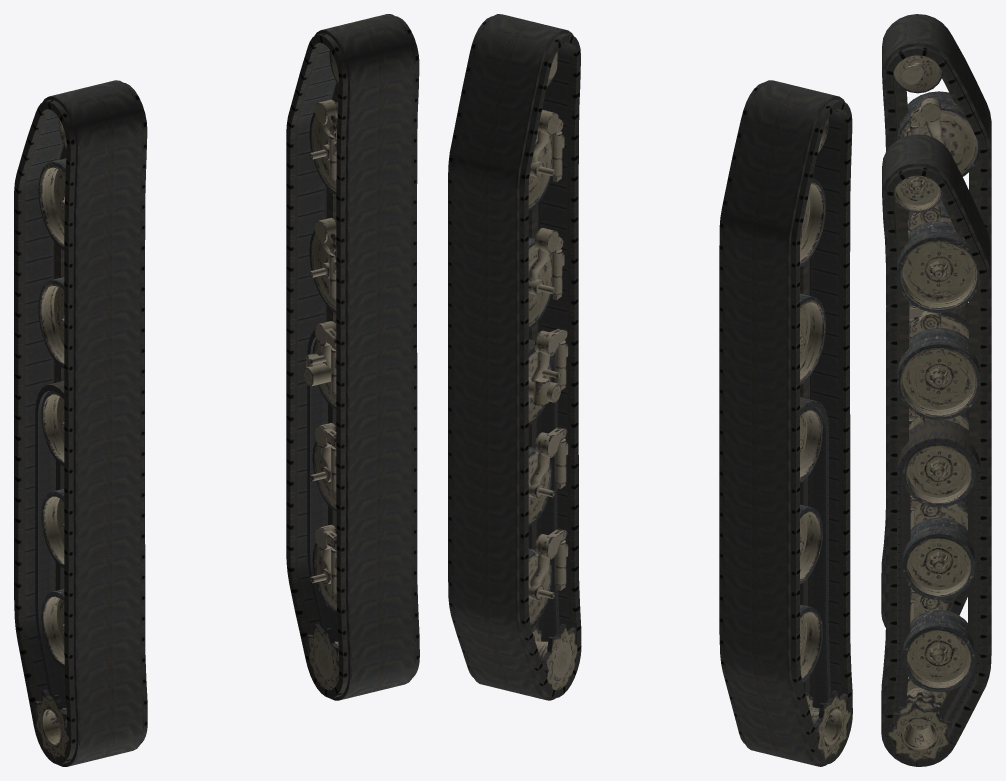
Rendered from Chassis.glb.
3 views of the same model, side by side, from view 1: azimuth 30°, elevation 25°; view 2: azimuth 150°, elevation 25°; view 3: azimuth 270°, elevation 25° (orthographic). The views are drawn at different scales.
Parts seen in each view (by area): view 1: set_0_group_0, set_1_group_0, set_3_group_0, set_2_group_0, set_0_group_1, set_1_group_1; view 2: set_0_group_0, set_1_group_0, set_3_group_0, set_2_group_0, set_0_group_1, set_1_group_1; view 3: set_3_group_0, set_1_group_0, set_0_group_0, set_1_group_1, set_2_group_0, set_0_group_1.
Part boxes in pixels (left/top/right/bottom): set_0_group_0: left=14, top=80, right=147, bottom=766; set_1_group_0: left=286, top=14, right=419, bottom=700; set_3_group_0: left=303, top=50, right=339, bottom=690; set_2_group_0: left=34, top=118, right=70, bottom=762; set_0_group_1: left=35, top=381, right=66, bottom=707; set_1_group_1: left=307, top=323, right=338, bottom=641; set_0_group_0: left=719, top=80, right=852, bottom=766; set_1_group_0: left=448, top=14, right=581, bottom=700; set_3_group_0: left=528, top=51, right=577, bottom=690; set_2_group_0: left=800, top=118, right=852, bottom=763; set_0_group_1: left=800, top=397, right=830, bottom=707; set_1_group_1: left=528, top=339, right=559, bottom=641; set_3_group_0: left=886, top=175, right=980, bottom=765; set_1_group_0: left=881, top=134, right=991, bottom=766; set_0_group_0: left=881, top=14, right=991, bottom=627; set_1_group_1: left=893, top=420, right=980, bottom=729; set_2_group_0: left=893, top=55, right=980, bottom=617; set_0_group_1: left=909, top=302, right=968, bottom=600.
Bounding box in the file's own units: 3.35 × 6.11 × 1.01.
6 materials, 6 textured.
